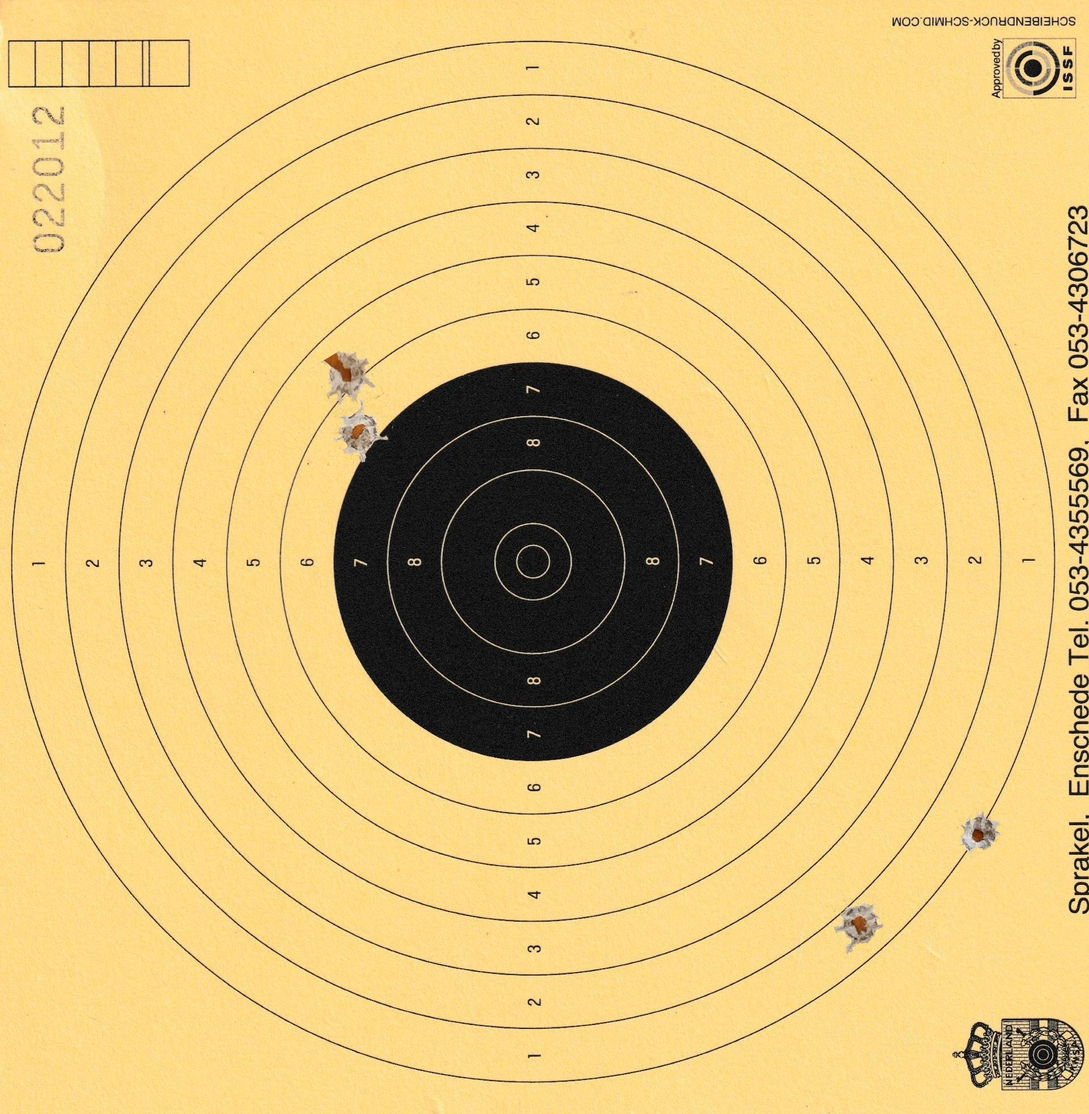hole: (337, 401, 389, 463), (322, 354, 377, 399), (834, 904, 884, 953), (962, 814, 999, 855)
